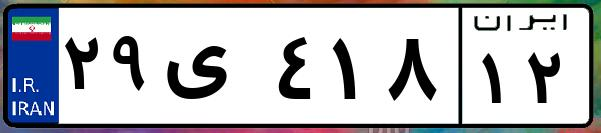1: (330, 28, 385, 110), (475, 38, 525, 113)
2: (57, 26, 110, 100), (525, 38, 570, 115)
4: (270, 28, 330, 110)
8: (385, 28, 445, 110)
9: (110, 28, 158, 98)
ی: (158, 20, 270, 120)
